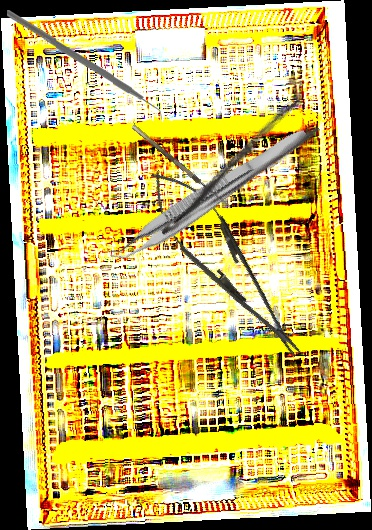Chopper: (5, 9, 164, 128)
Dressing Forceps: (141, 96, 323, 239)
Hook Surgical: (131, 119, 236, 210)
Needle Holder: (133, 156, 318, 372)
Tissue Forceps: (104, 115, 312, 274)
